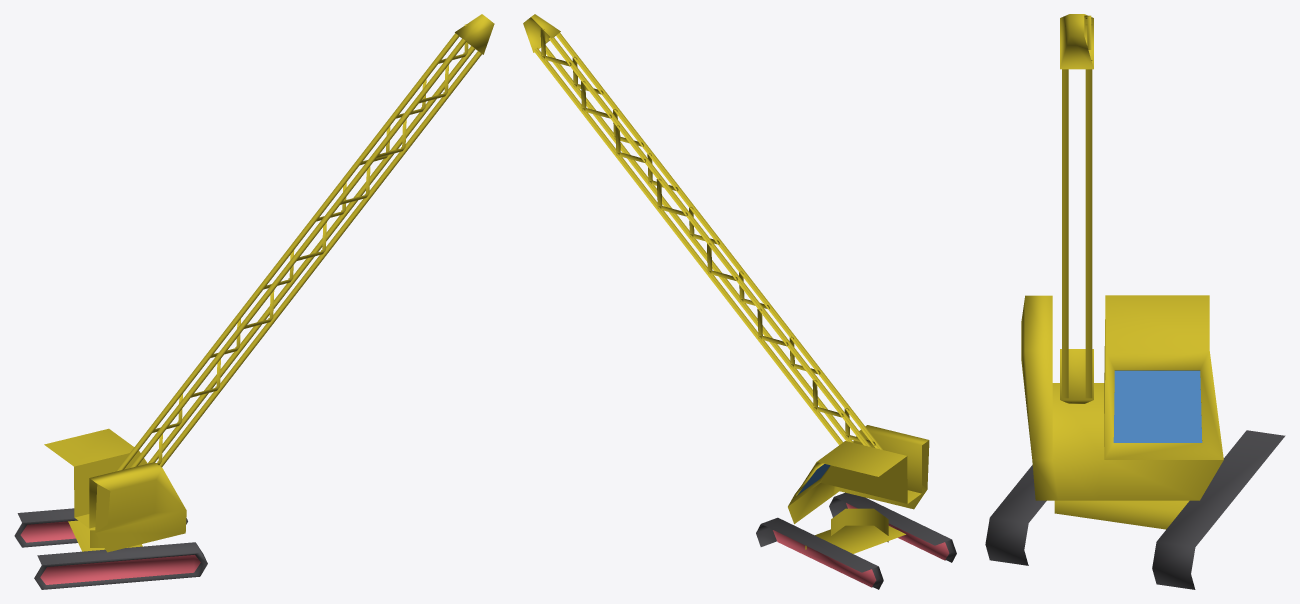
File: WreckingCrane2.fbx
The picture shows the model from 3 angles, left to right: view 1: azimuth 30°, elevation 25°; view 2: azimuth 150°, elevation 25°; view 3: azimuth 270°, elevation 25°; orthographic projection. The views are drawn at different scales.
Parts seen in each view (by area): view 1: Cube; view 2: Cube; view 3: Cube.
Part boxes in pixels (x1,y1,x2,y2): Cube: (14, 14, 494, 589); Cube: (523, 14, 956, 589); Cube: (985, 14, 1285, 589).
Bounding box in the file's own units: 33.45 × 32.74 × 11.04.
